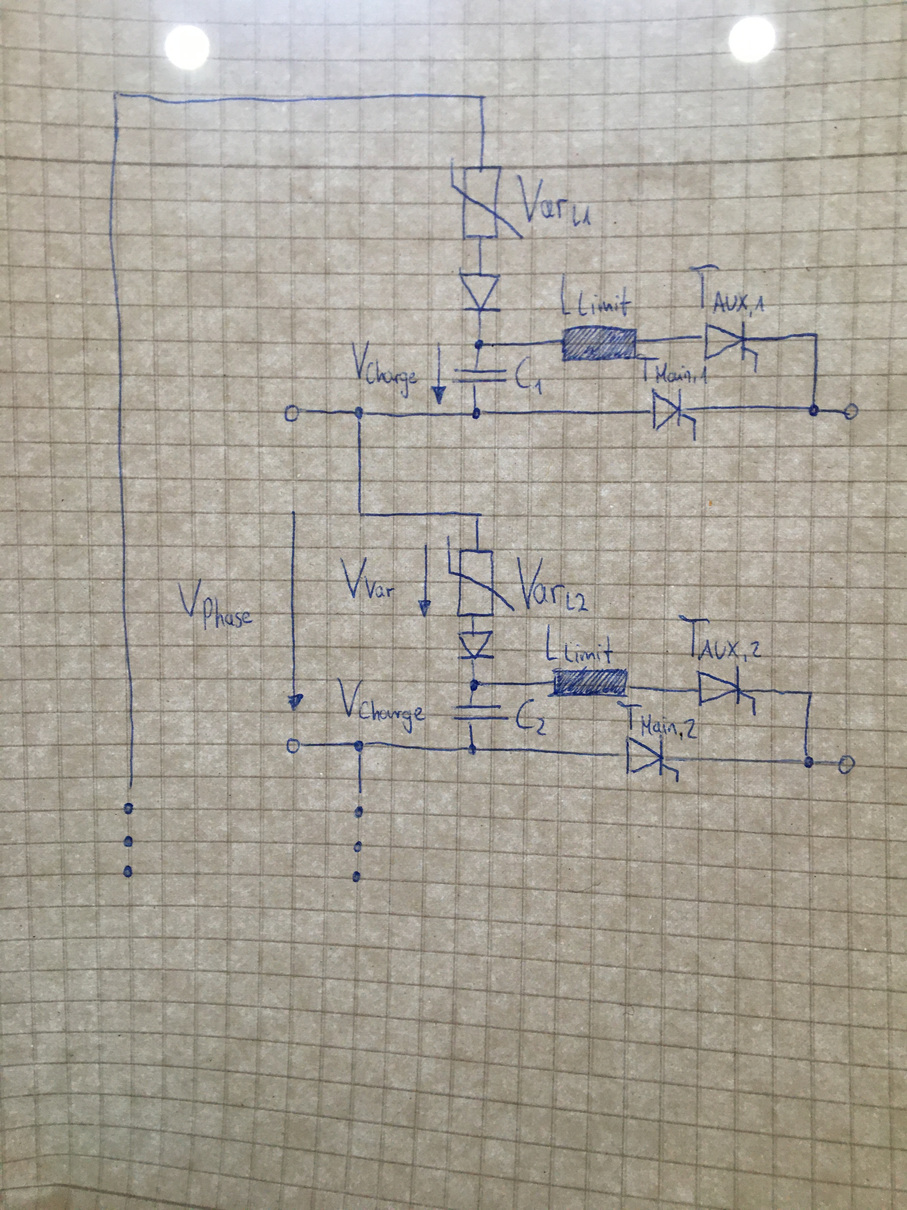capacitor.unpolarized: (452, 702, 511, 726), (449, 365, 509, 388)
diode: (456, 267, 506, 315), (456, 628, 497, 662)
inductor: (558, 322, 640, 365), (546, 666, 631, 701)
junction: (349, 736, 370, 758), (797, 751, 817, 771), (806, 400, 825, 419), (467, 405, 485, 423), (108, 86, 127, 103), (351, 404, 367, 423), (464, 740, 480, 759), (467, 674, 482, 693), (475, 91, 491, 107), (470, 338, 487, 353), (808, 327, 825, 342), (471, 509, 486, 523), (803, 685, 818, 699), (354, 507, 366, 521)
terminal: (350, 788, 369, 821), (120, 783, 137, 817), (283, 403, 308, 425), (836, 751, 857, 777), (840, 400, 863, 423), (285, 735, 307, 756)
text: (335, 675, 428, 735), (514, 172, 595, 229), (515, 554, 591, 614), (688, 263, 767, 320), (348, 339, 421, 400), (677, 612, 764, 663), (176, 577, 255, 633), (557, 270, 634, 320), (615, 699, 698, 743), (544, 622, 614, 665), (339, 554, 396, 600), (635, 353, 710, 387), (512, 696, 549, 737), (513, 354, 546, 397)
thyristor: (694, 662, 758, 713), (615, 735, 682, 782), (699, 319, 761, 367), (646, 386, 699, 434)
varistor: (446, 155, 526, 245), (444, 533, 516, 623)
